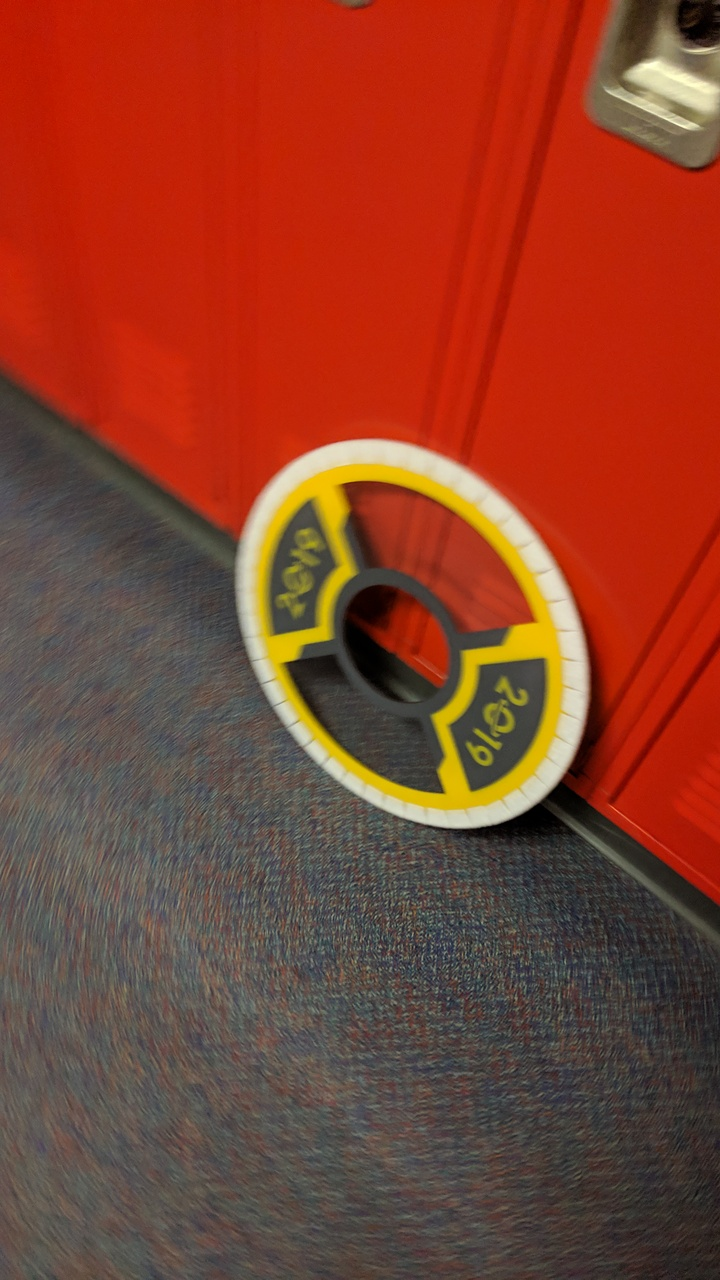hatch_panel: (219, 432, 627, 837)
